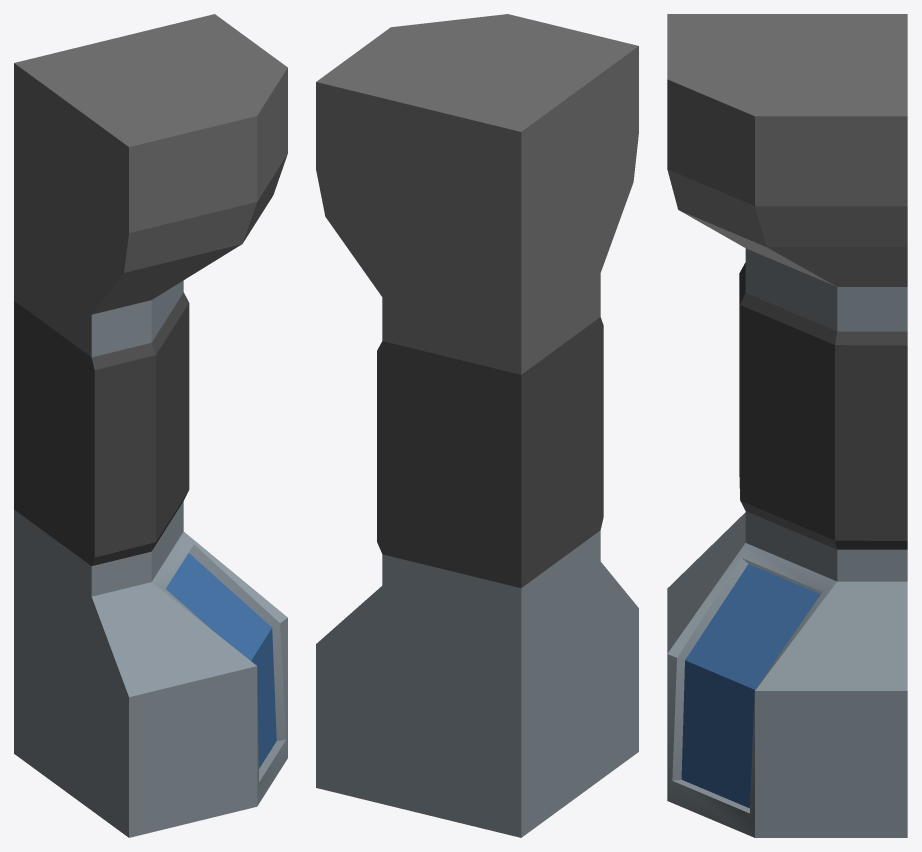
The model's file is SM_Bld_Wall_Corner_Pillar_Wide_02.fbx.
3 views of the same model, side by side, from view 1: azimuth 30°, elevation 25°; view 2: azimuth 150°, elevation 25°; view 3: azimuth 270°, elevation 25° (orthographic). The views are drawn at different scales.
Parts seen in each view (by area): view 1: SM_Bld_Wall_Corner_Pillar_Wide_02; view 2: SM_Bld_Wall_Corner_Pillar_Wide_02; view 3: SM_Bld_Wall_Corner_Pillar_Wide_02.
Boxes of the visible parts, x1=… form: SM_Bld_Wall_Corner_Pillar_Wide_02: x1=14, y1=14, x2=287, y2=837; SM_Bld_Wall_Corner_Pillar_Wide_02: x1=316, y1=14, x2=638, y2=837; SM_Bld_Wall_Corner_Pillar_Wide_02: x1=667, y1=14, x2=907, y2=837.
Bounding box in the file's own units: 155 × 509 × 154.
Materials: 1 (1 with a texture image).
